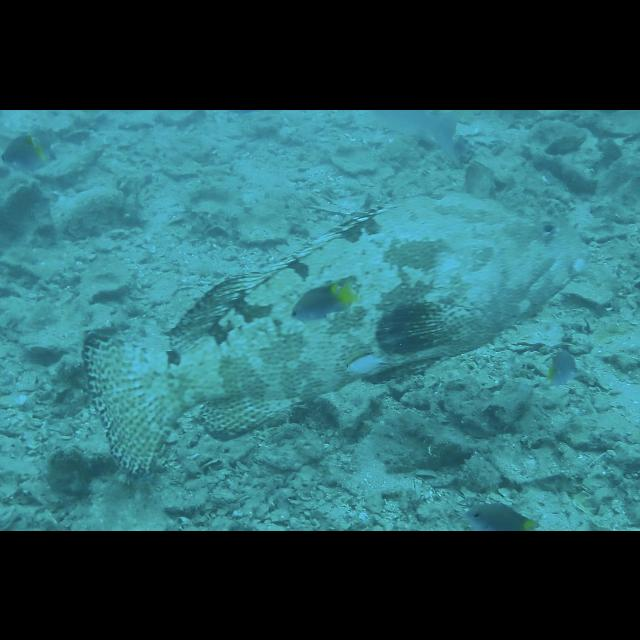Groupers: (86, 188, 596, 480)
